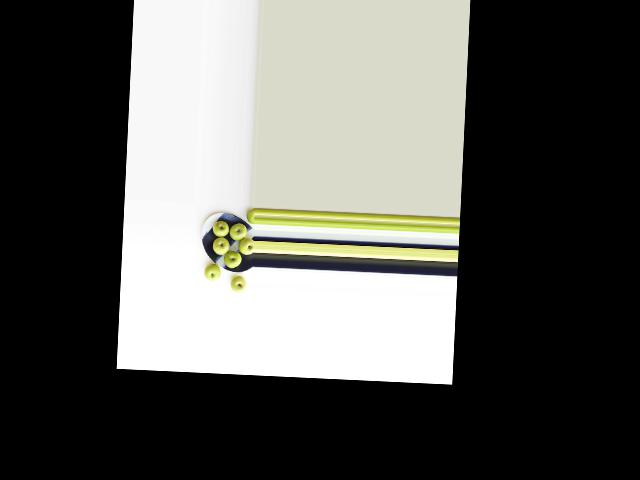apple: (210, 220, 229, 238)
